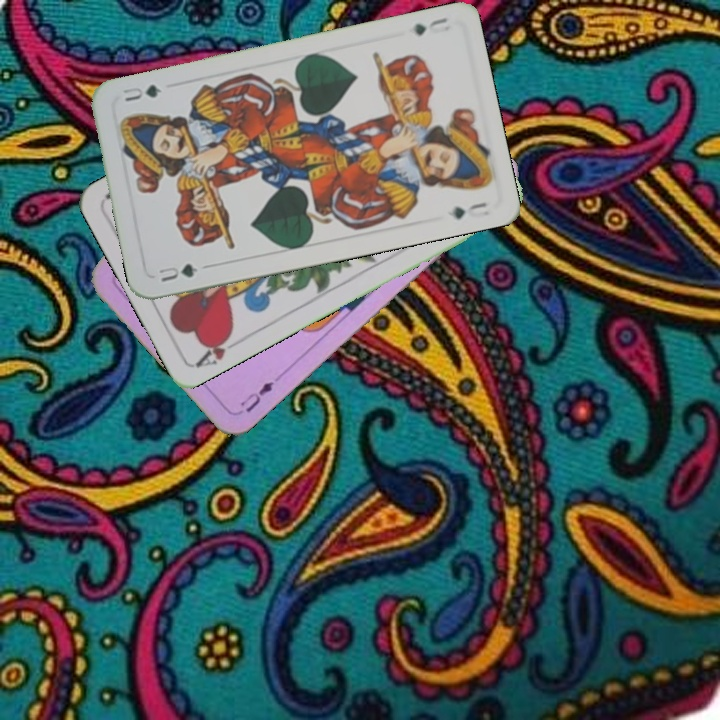EU: (236, 376, 277, 415)
GU: (154, 259, 201, 285), (409, 13, 450, 39)
HA: (191, 327, 246, 371)
